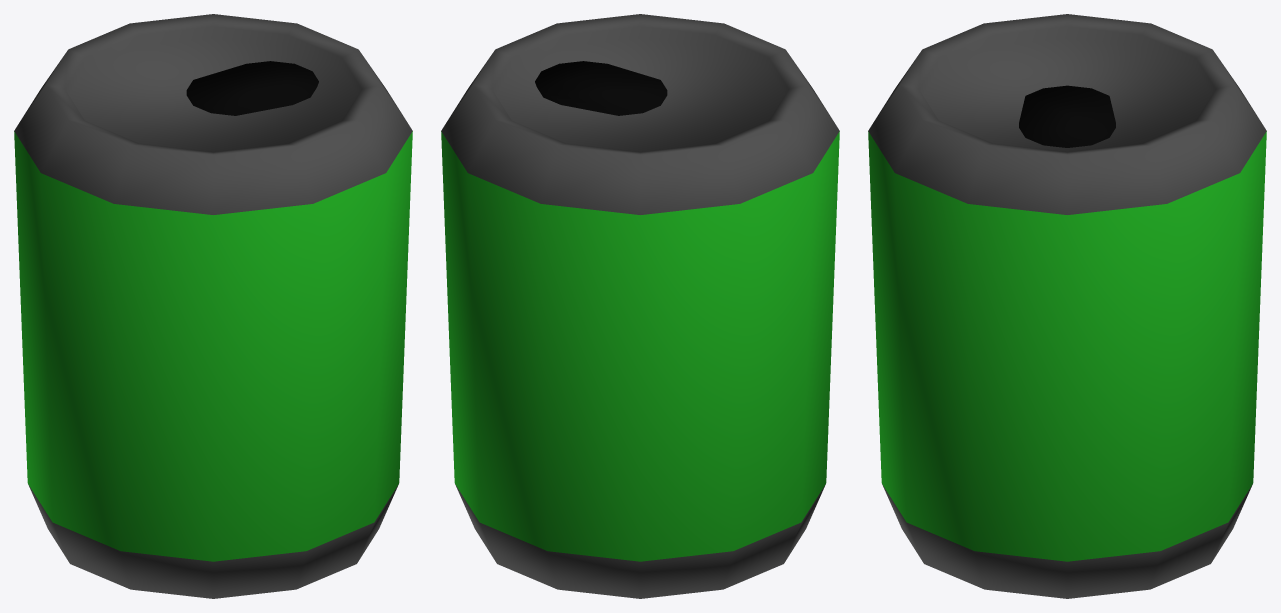
Rendered from Trash_Can2.fbx.
The picture shows the model from 3 angles, left to right: view 1: azimuth 30°, elevation 25°; view 2: azimuth 150°, elevation 25°; view 3: azimuth 270°, elevation 25°; orthographic projection.
Parts seen in each view (by area): view 1: Can; view 2: Can; view 3: Can.
Boxes of the visible parts, left/top/right/bottom form: Can: left=14, top=14, right=412, bottom=598; Can: left=441, top=14, right=839, bottom=598; Can: left=868, top=14, right=1266, bottom=598.
Size of the model in its own units: 79.92 by 98.24 by 79.92.
